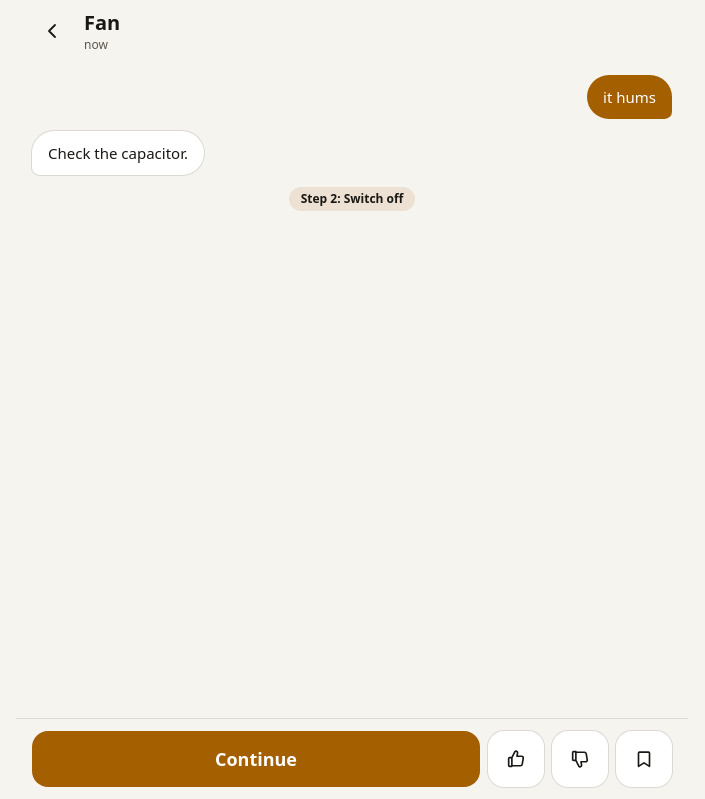
Test: ChatScreen › tells the user when saving fails
The image size is (705, 799).
Click the button named "Save this device" at (644, 759), box [616,731,672,787]
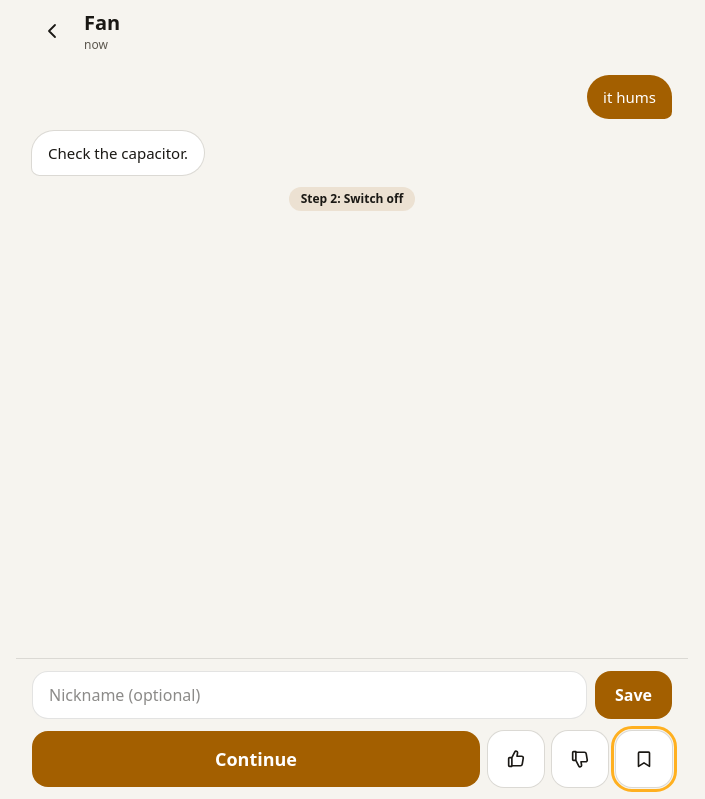
Click the button "Save" at (634, 695), box [595,671,672,719]
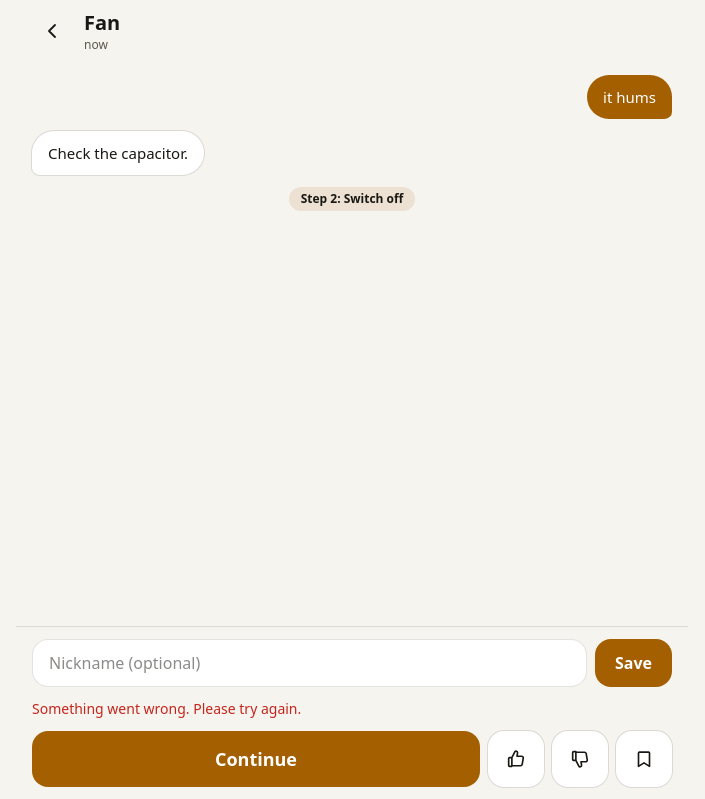
Result: the message "Something went wrong. Please try again." is shown at [32,699,301,718]
